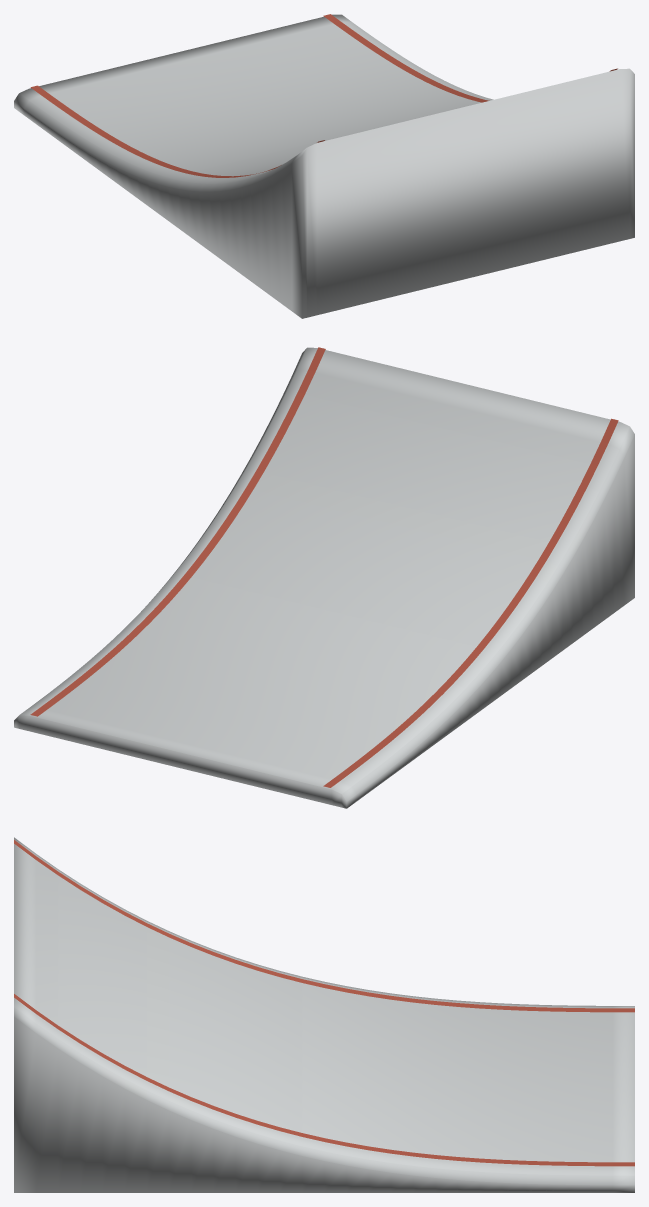
Rendered from kicker.glb.
3 renders of one model, top to bottom at view 1: azimuth 30°, elevation 25°; view 2: azimuth 150°, elevation 25°; view 3: azimuth 270°, elevation 25°, orthographic. The views are drawn at different scales.
Parts seen in each view (by area): view 1: kicker; view 2: kicker; view 3: kicker.
Part boxes in pixels (box(x1,y1,x2,y2)): kicker: box(14, 14, 634, 318); kicker: box(14, 347, 634, 808); kicker: box(14, 837, 634, 1192).
Size of the model in its own units: 4 by 1.99 by 6.
